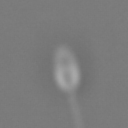normal: (59, 92, 98, 128)
